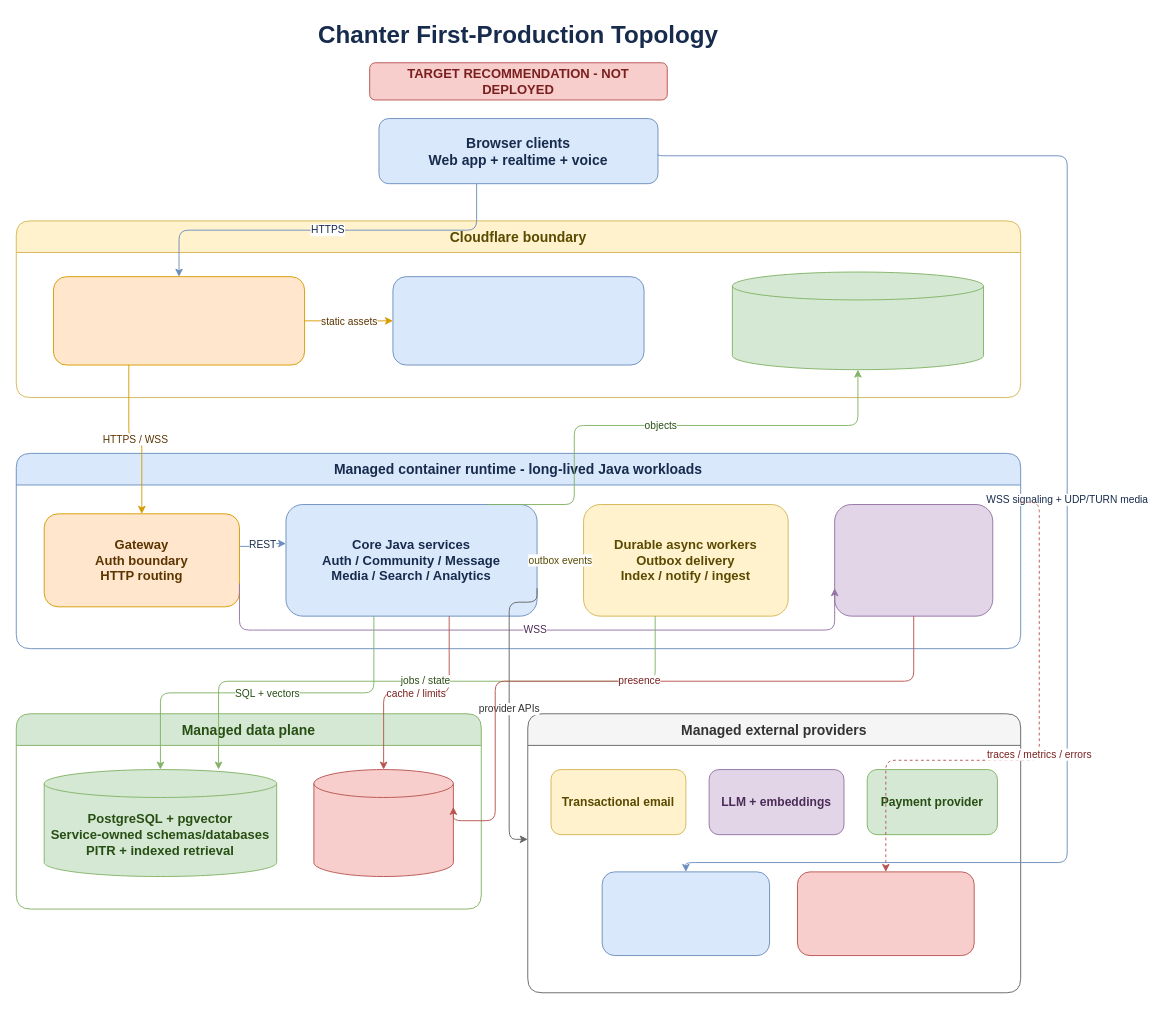
Some shapes in this 1164 by 1009 pixel diagram are drawn without their labels. The shapes that lost their labels are listed below. From the top down, each one's centre as x and y in pixels, then its label:
At point (179, 320): "DNS + TLS edge WAF / DDoS / rate limits HTTPS + WebSocket proxy".
At point (518, 320): "Pages / Static Assets React + Vite SPA PR previews".
At point (857, 320): "Private R2 Course Resource objects Lifecycle + signed access".
At point (913, 560): "Realtime service WebSocket heartbeat Chat / presence".
At point (383, 823): "Managed Redis Cache / rate limits Presence coordination".
At point (685, 913): "LiveKit Cloud WSS signaling UDP / TURN media".
At point (885, 913): "Telemetry Errors / traces / metrics / logs Alerts + on-call".
